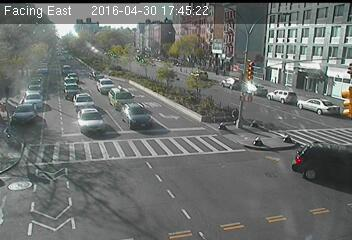neg: (178, 33, 208, 73), (28, 100, 57, 139), (46, 159, 75, 197), (78, 112, 106, 149), (117, 48, 145, 85), (51, 58, 74, 89), (243, 60, 266, 91), (215, 162, 238, 193), (145, 124, 168, 154), (116, 197, 137, 225), (312, 111, 332, 138), (293, 74, 312, 100), (246, 133, 265, 158), (264, 191, 283, 216)
pos: (229, 102, 244, 122)
